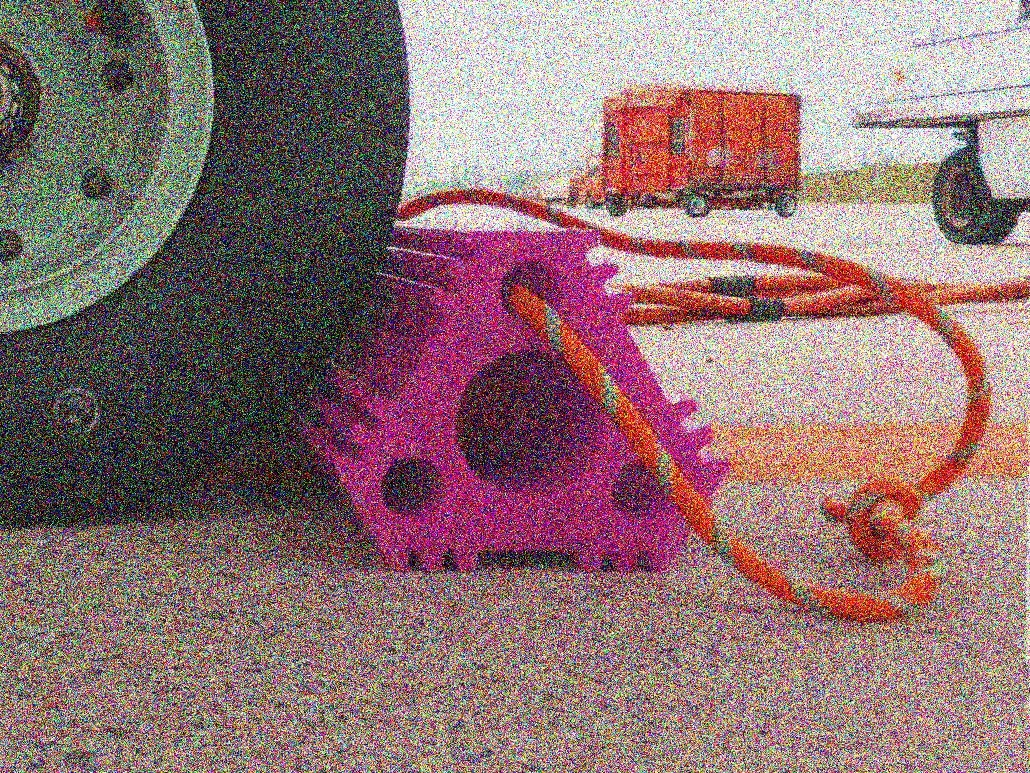chock: (273, 221, 731, 576)
wheel: (1, 0, 411, 529), (933, 151, 1017, 243), (683, 191, 709, 216), (774, 192, 796, 217), (606, 191, 627, 215), (581, 188, 599, 210)
